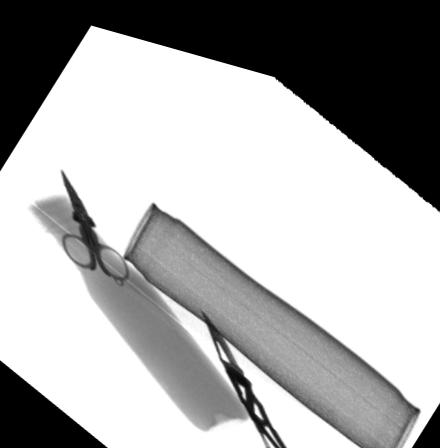Knife: (199, 296, 299, 448)
Scissors: (60, 167, 130, 279)
